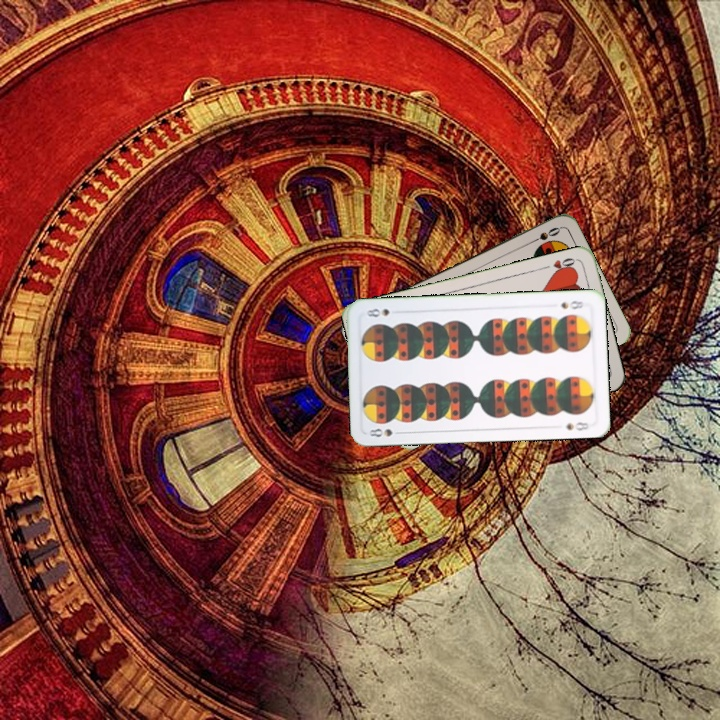HO: (539, 254, 579, 276)
S8: (365, 425, 406, 439), (557, 296, 586, 312)
SO: (524, 223, 563, 247)
